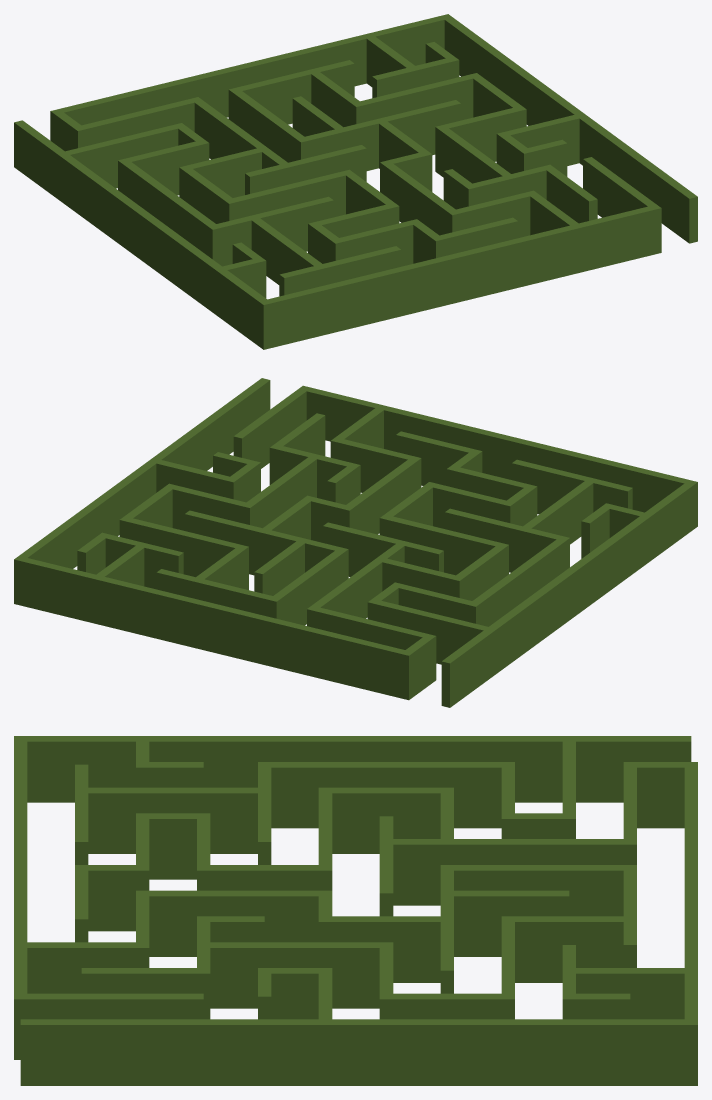
File: labyrinth.glb
The picture shows the model from 3 angles, top to bottom: view 1: azimuth 30°, elevation 25°; view 2: azimuth 150°, elevation 25°; view 3: azimuth 270°, elevation 25°; orthographic projection. The views are drawn at different scales.
Visible parts, largest first — view 1: Grid; view 2: Grid; view 3: Grid.
Boxes of the visible parts, x1,y1,x2,y2 form: Grid: [14, 14, 697, 349]; Grid: [14, 378, 697, 707]; Grid: [14, 736, 697, 1085].
Bounding box in the file's own units: 5.1 × 0.5 × 5.1.
